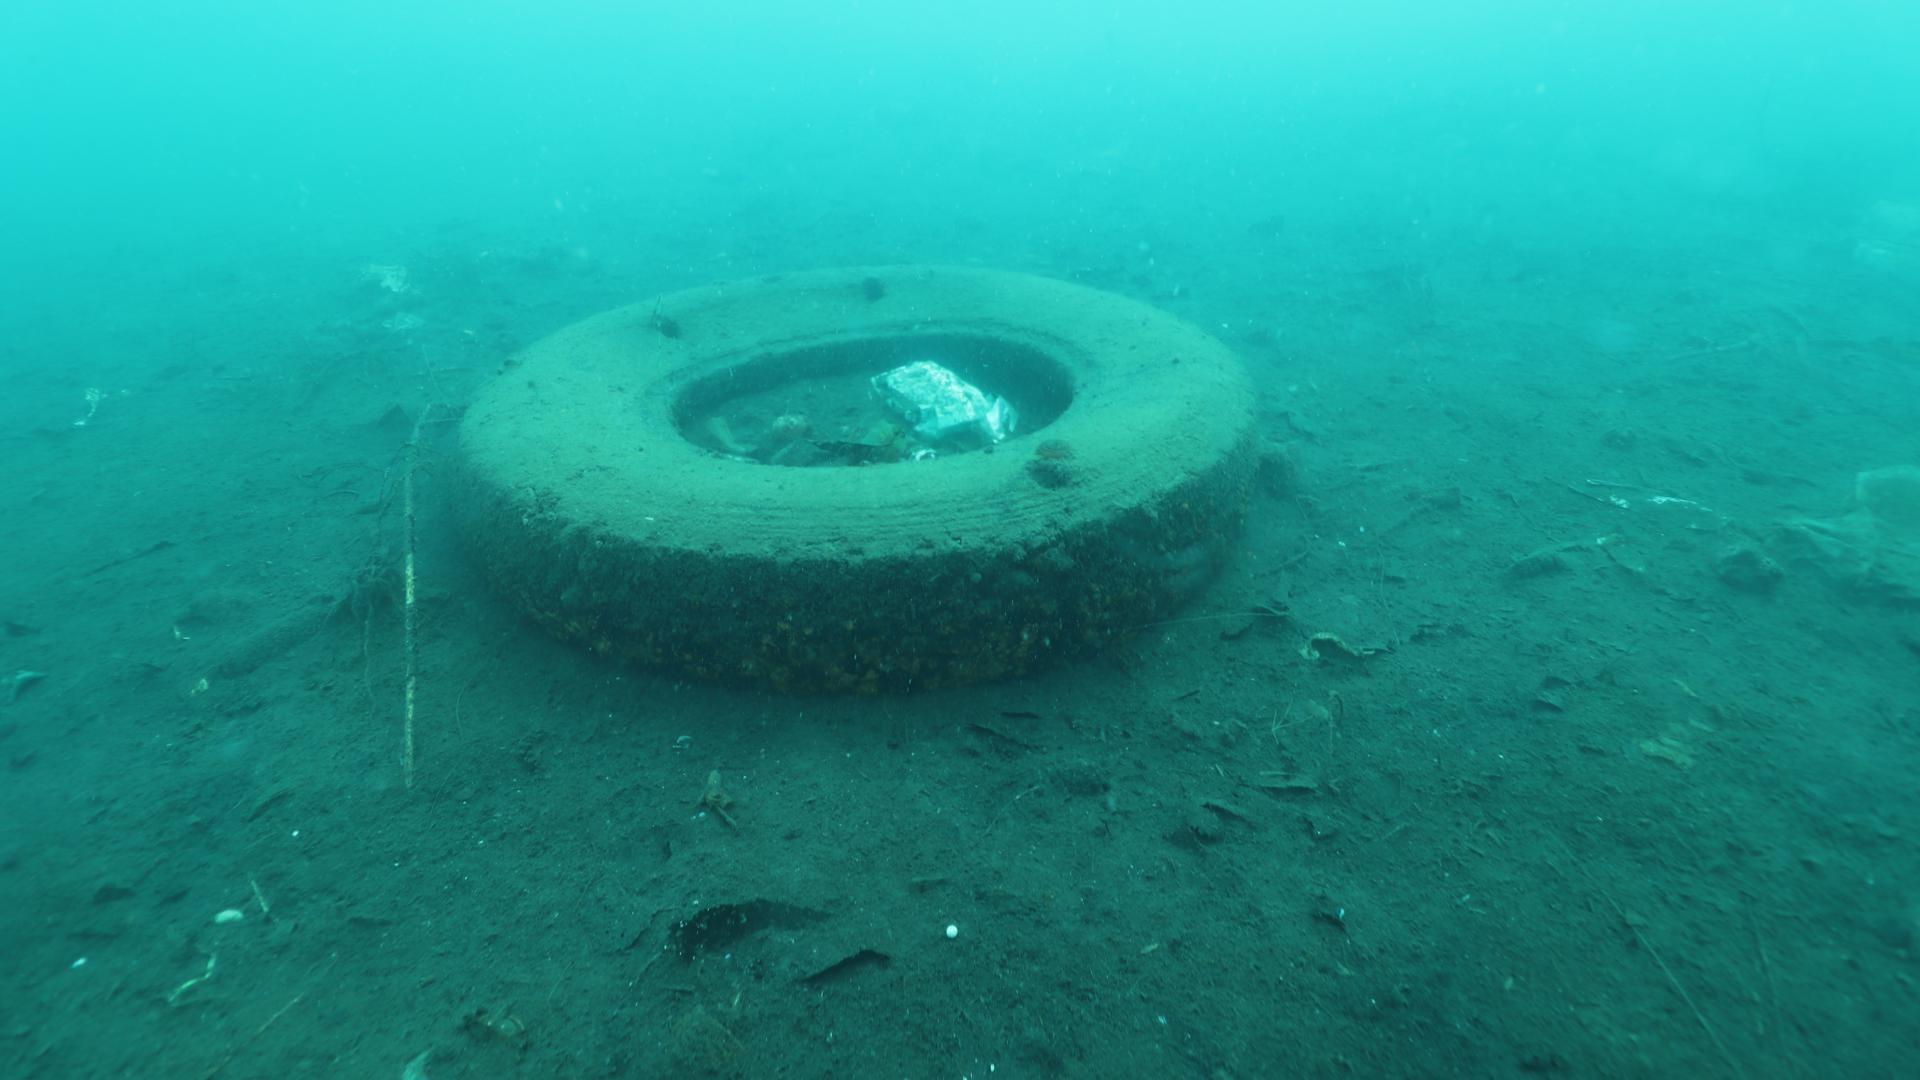tire: (450, 262, 1261, 695)
